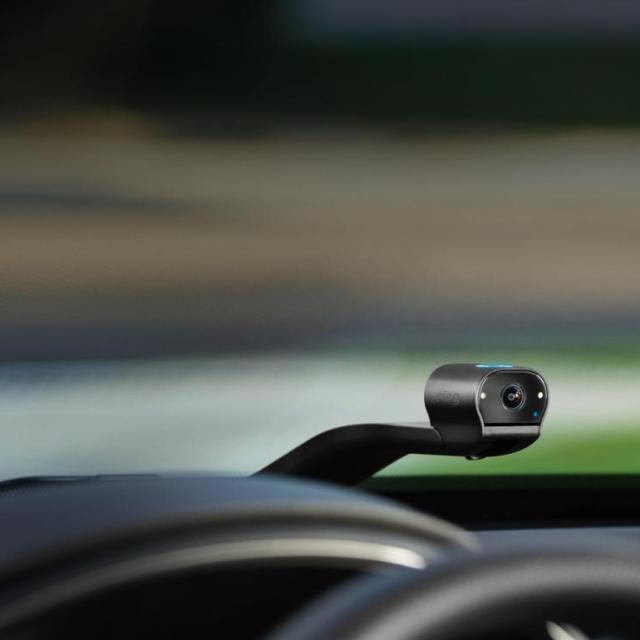hidden camera: (489, 366, 536, 419)
